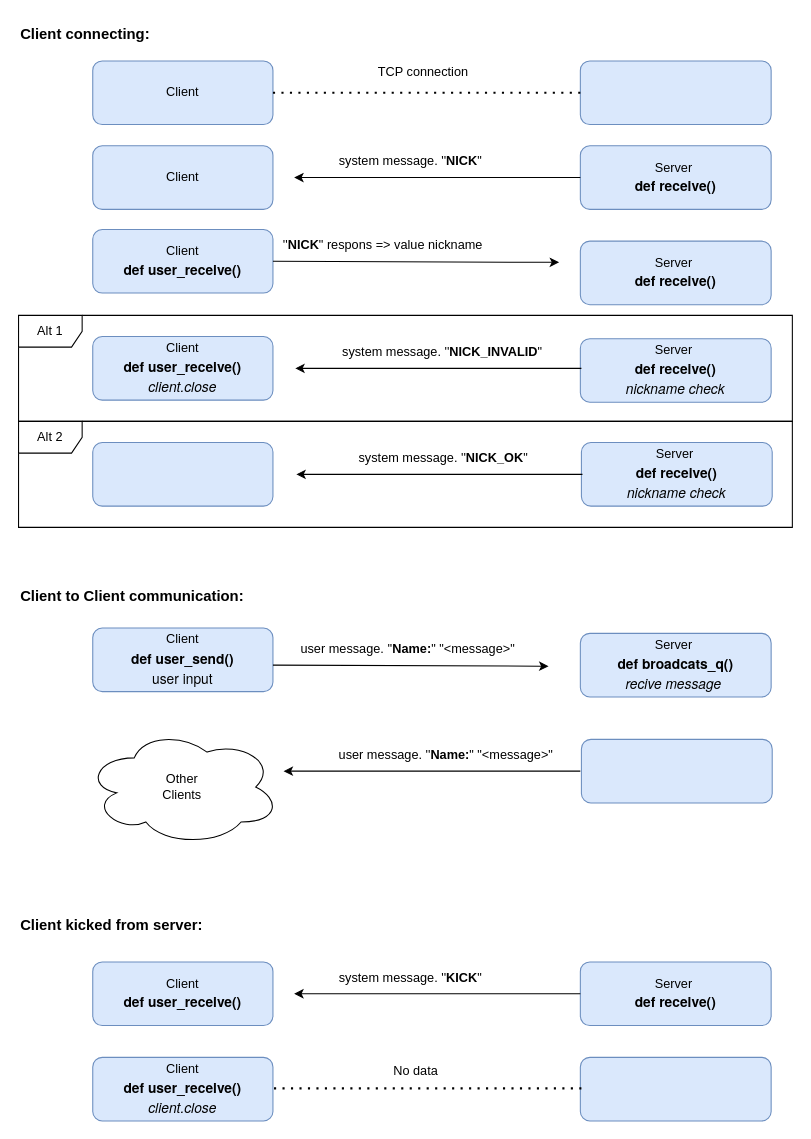
Image size: 811x1139. Some labels were removed from this diagram. The shapes that lost their labels are listed below. From the top down, each one's centre as x and y in pixels, then its label:
(x=675, y=92): Server
(x=182, y=473): Client def user_receive() print("Welcome")
(x=676, y=770): Server def broadcats_q() forward message
(x=675, y=1088): Server def handel() close socket
